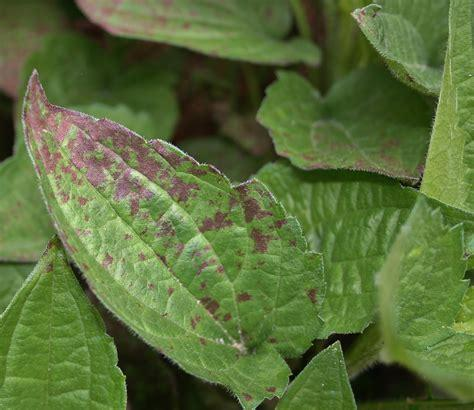black-spot: (125, 219, 218, 311)
